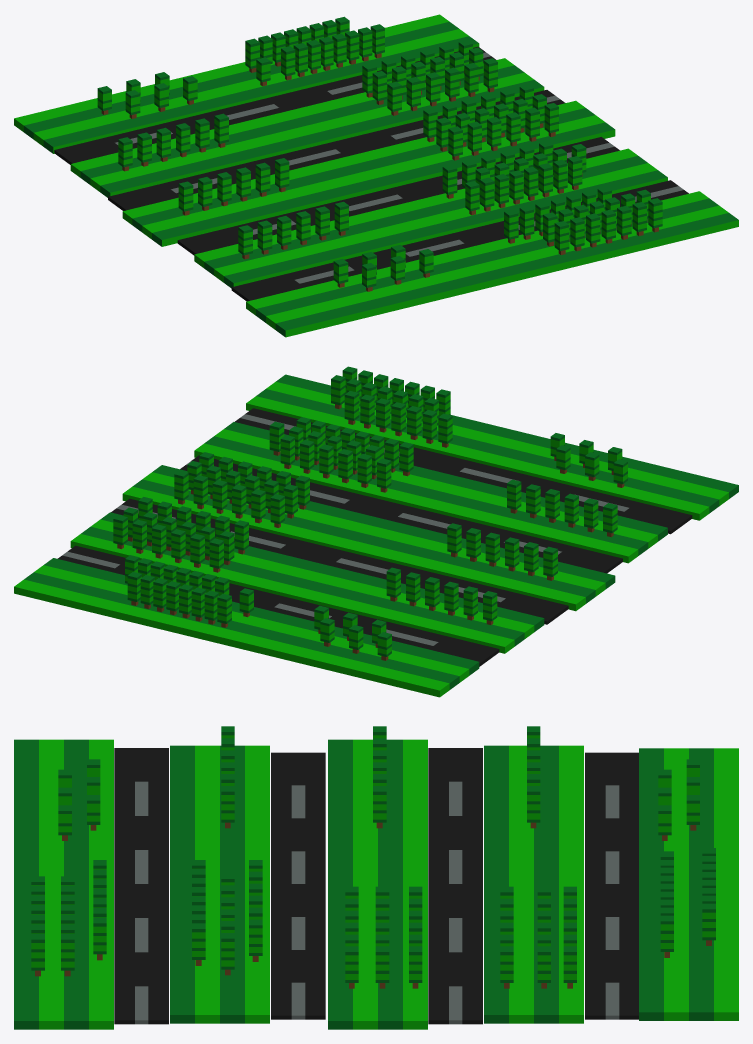
Rendered from EscenarioPrincipal.glb.
The picture shows the model from 3 angles, top to bottom: view 1: azimuth 30°, elevation 25°; view 2: azimuth 150°, elevation 25°; view 3: azimuth 270°, elevation 25°; orthographic projection. The views are drawn at different scales.
Parts seen in each view (by area): view 1: Plane.012, Plane.014, Plane.010, Plane.016, Plane.013, Plane.015, Plane.011, Plane.017, Plane.009, Cube.026, Cube.025, Cube.010 (+16 smaller); view 2: Plane.013, Plane.012, Plane.014, Plane.016, Plane.010, Plane.015, Plane.011, Plane.009, Plane.017, Cube.003, Cube.027, Cube.006 (+16 smaller); view 3: Plane.014, Plane.012, Plane.010, Plane.016, Plane.013, Plane.011, Plane.015, Plane.009, Plane.017, Cube.011, Cube.032, Cube.001 (+16 smaller).
Part boxes in pixels (box(x1,y1,x2,y2)): Plane.012: box(246, 191, 738, 337); Plane.014: box(122, 100, 615, 246); Plane.010: box(194, 148, 667, 288); Plane.016: box(70, 58, 544, 197); Plane.013: box(14, 14, 479, 153); Plane.015: box(108, 90, 565, 210); Plane.011: box(231, 180, 688, 301); Plane.017: box(54, 46, 495, 164); Plane.009: box(177, 137, 619, 255); Cube.026: box(465, 156, 582, 215); Cube.025: box(281, 24, 384, 80); Cube.010: box(554, 198, 662, 255); Plane.013: box(14, 558, 479, 697); Plane.012: box(246, 374, 738, 520); Plane.014: box(122, 465, 615, 611); Plane.016: box(70, 512, 544, 653); Plane.010: box(194, 422, 667, 563); Plane.015: box(111, 498, 568, 624); Plane.011: box(235, 408, 692, 534); Plane.009: box(180, 455, 622, 573); Plane.017: box(57, 545, 499, 666); Cube.003: box(127, 572, 231, 627); Cube.027: box(344, 391, 452, 447); Cube.006: box(174, 470, 284, 527); Plane.014: box(328, 739, 427, 1029); Plane.012: box(14, 739, 113, 1029); Plane.010: box(170, 745, 269, 1023); Plane.016: box(484, 745, 583, 1023); Plane.013: box(639, 748, 738, 1020); Plane.011: box(114, 748, 168, 1024); Plane.015: box(428, 748, 482, 1024); Plane.009: box(271, 752, 325, 1019); Plane.017: box(585, 752, 638, 1019); Cube.011: box(658, 759, 699, 840); Cube.032: box(58, 759, 100, 840); Cube.001: box(375, 886, 389, 988).
Bounding box in the file's own units: 98.98 × 7.68 × 108.
